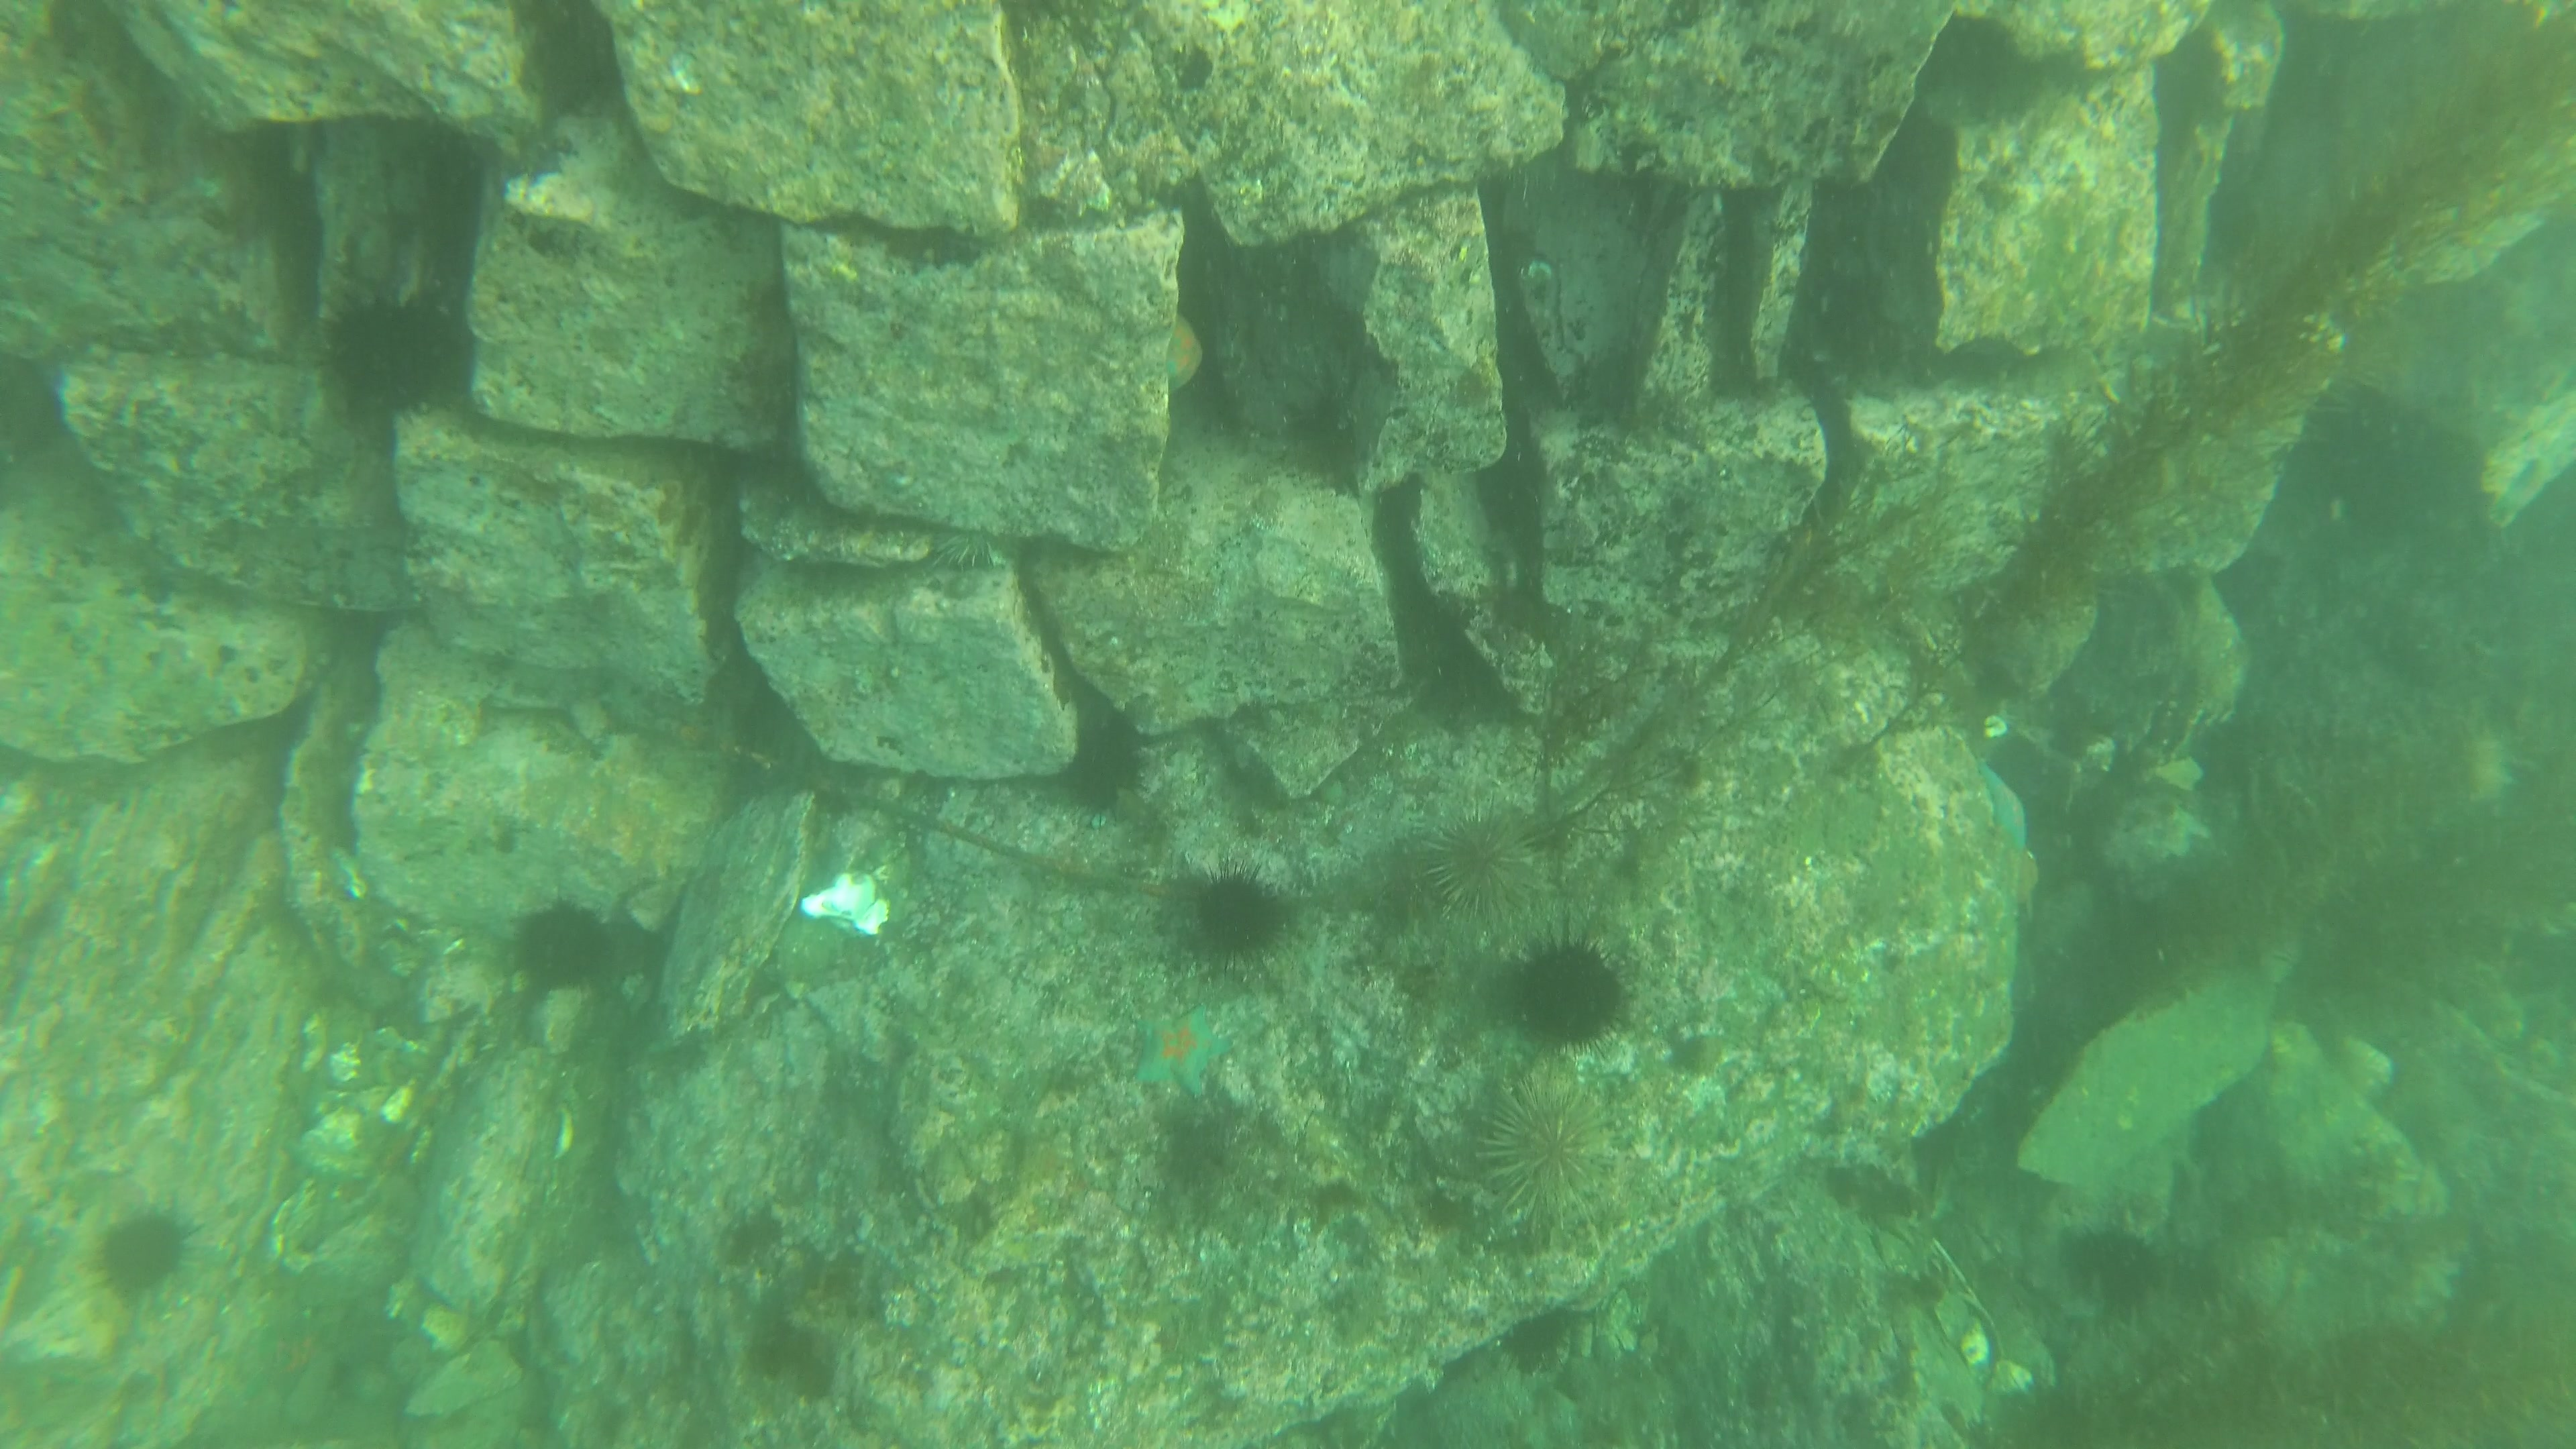echinus: (1474, 1069, 1633, 1230), (1493, 924, 1652, 1054), (311, 288, 469, 418), (1399, 805, 1568, 920), (499, 885, 633, 1003), (78, 1191, 209, 1311), (1177, 849, 1304, 971)
starfish: (1131, 998, 1238, 1111), (1146, 299, 1210, 407), (1976, 757, 2029, 860)
